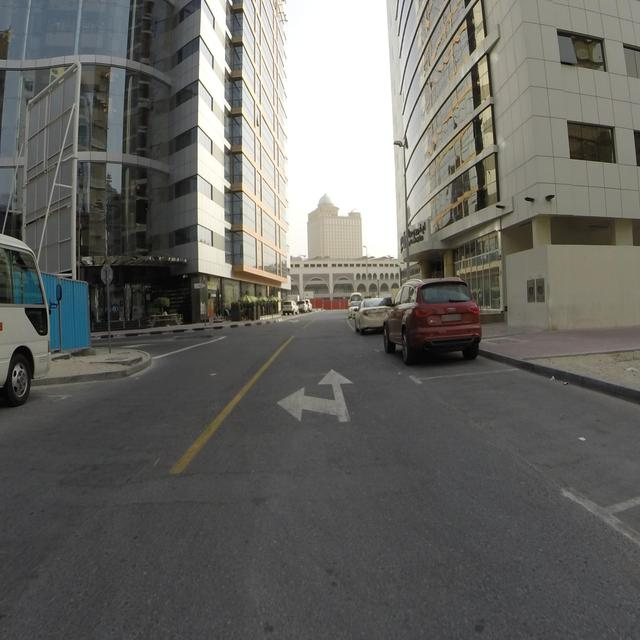Billboard: (400, 222, 424, 252)
Car: (348, 276, 481, 364), (0, 233, 61, 406), (281, 299, 311, 314)
Manhole: (487, 339, 521, 343)
Vegetation: (146, 297, 178, 315)
